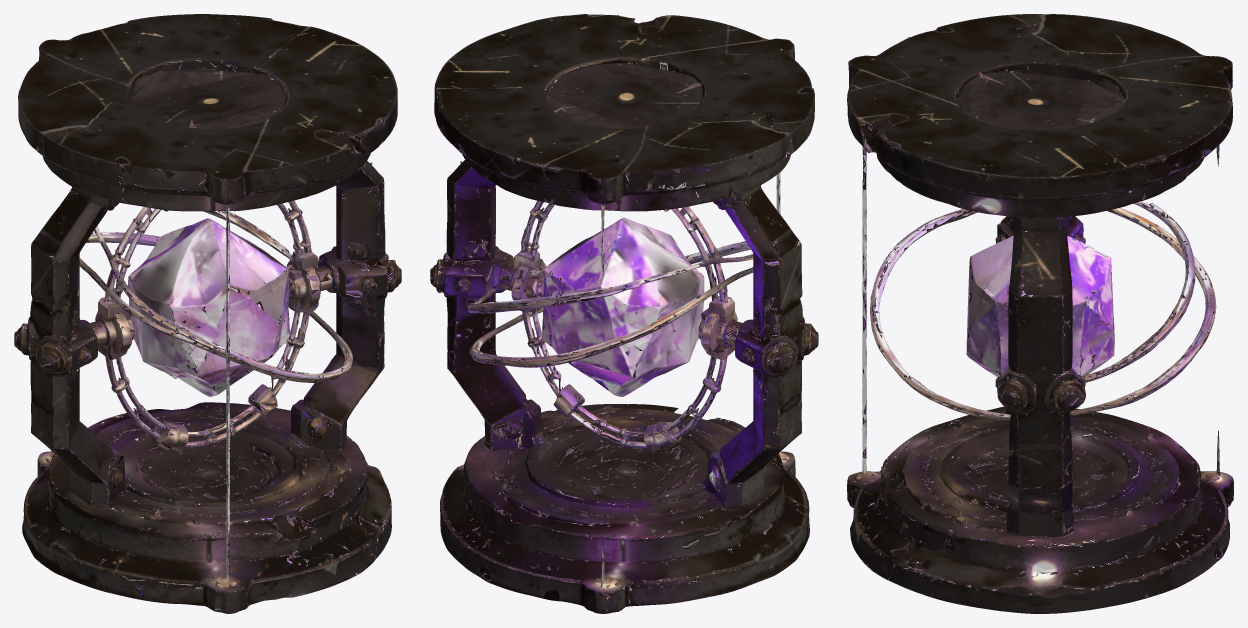
The model's file is ancient-reactor-web.glb.
The picture shows the model from 3 angles, left to right: view 1: azimuth 30°, elevation 25°; view 2: azimuth 150°, elevation 25°; view 3: azimuth 270°, elevation 25°; orthographic projection.
Parts seen in each view (by area): view 1: world; view 2: world; view 3: world.
Part boxes in pixels (x1,y1,x2,y2): world: (14, 14, 401, 613); world: (430, 14, 818, 613); world: (847, 14, 1233, 613).
Size of the model in its own units: 1.72 by 1.99 by 1.58.
Materials: 1 (1 with a texture image).
